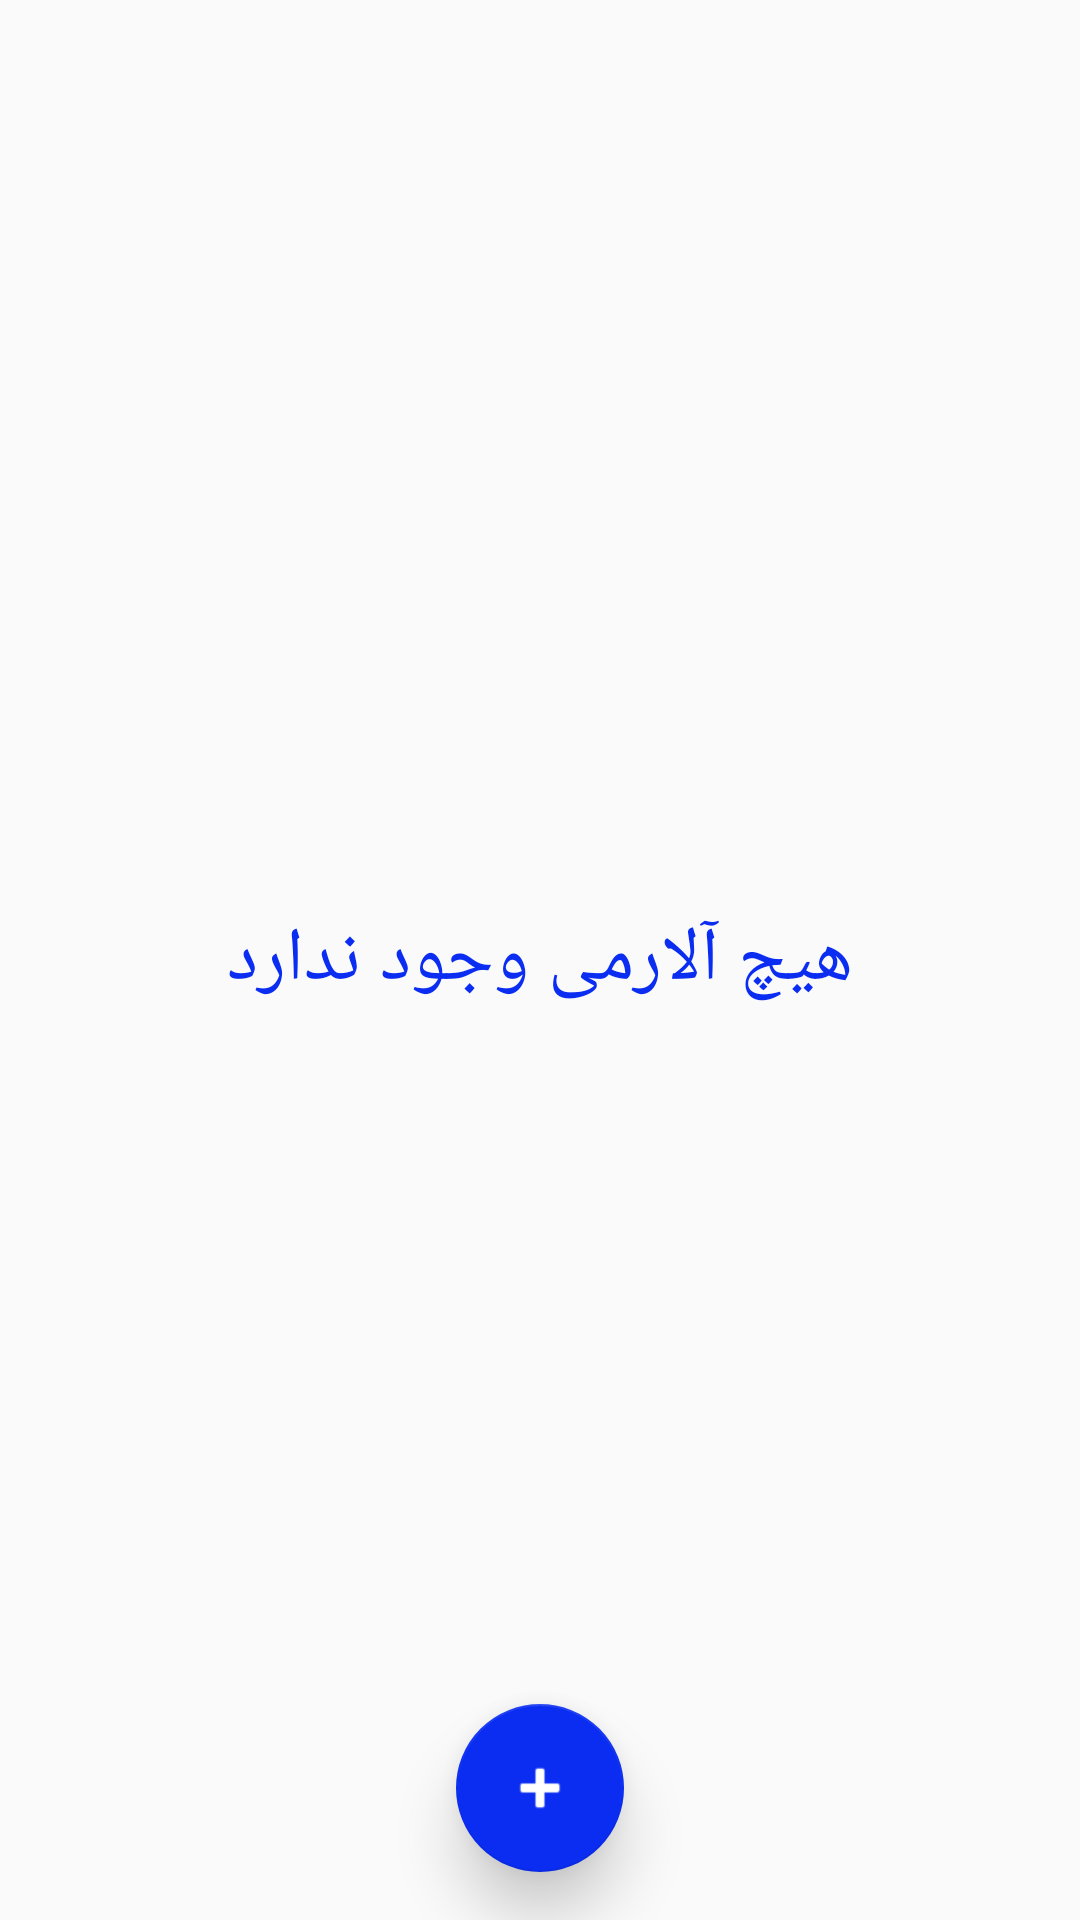

Icon bounding boxes for this 1080x1920 phone screenshot, format (x1, y1, x2, y2):
add: (456, 1704, 624, 1872)
